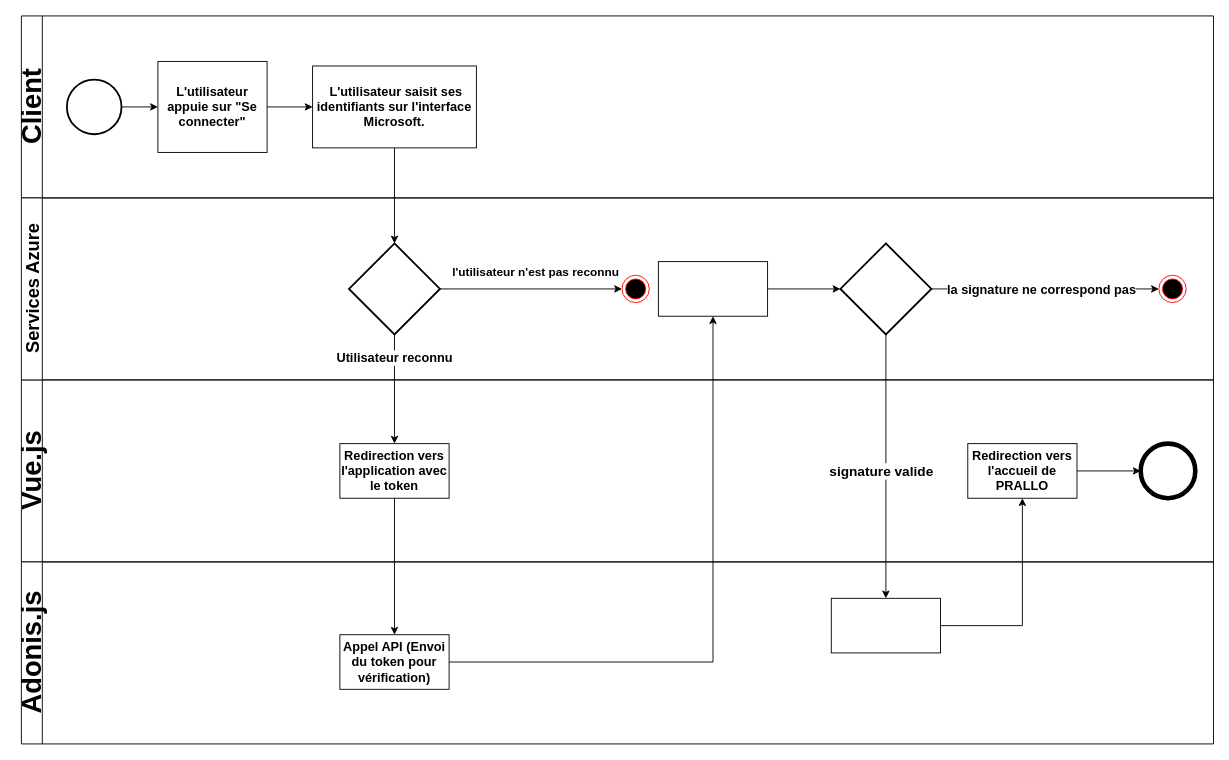
This 1229x760 diagram has some shape labels left out. Each missing label, with the centre of its shape:
End: (x=1167, y=470)
Start: (x=94, y=106)
Validation (Vérification de la signature via clés publiques: (x=712, y=288)
Vérification du rôle + état: (x=885, y=625)
